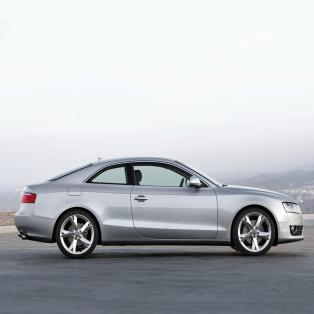Auto: (12, 157, 307, 257)
